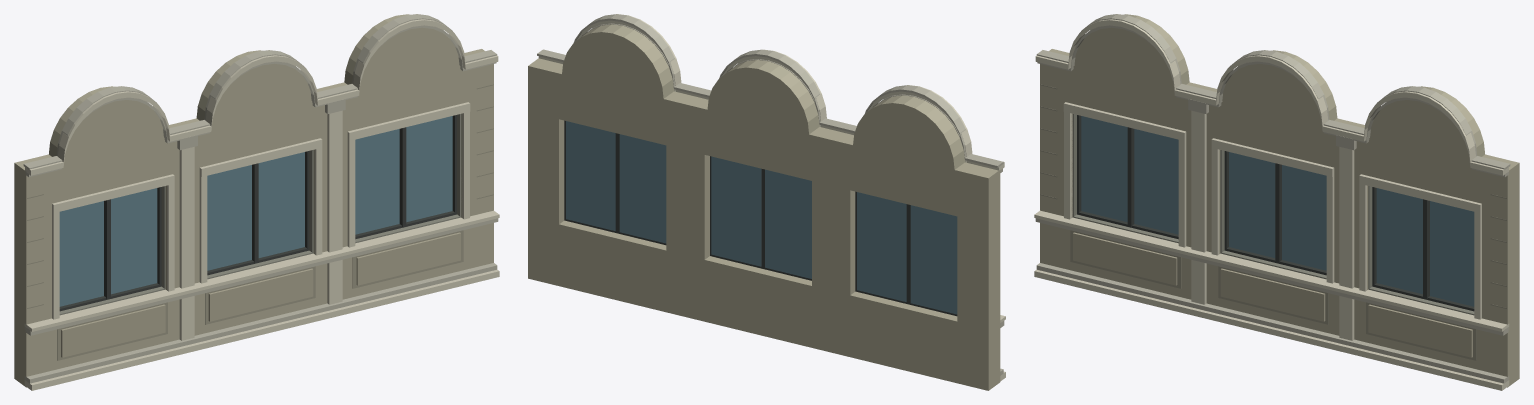
Rendered from changning-yang-garden-triple-parapet-lod.glb.
The picture shows the model from 3 angles, left to right: view 1: azimuth 30°, elevation 25°; view 2: azimuth 150°, elevation 25°; view 3: azimuth 330°, elevation 25°; orthographic projection.
Visible parts, largest first — view 1: 杨氏花园南立面三弧山花与双扇窗; view 2: 杨氏花园南立面三弧山花与双扇窗; view 3: 杨氏花园南立面三弧山花与双扇窗.
Boxes of the visible parts, left/top/right/bottom form: 杨氏花园南立面三弧山花与双扇窗: left=14, top=14, right=499, bottom=390; 杨氏花园南立面三弧山花与双扇窗: left=528, top=14, right=1005, bottom=390; 杨氏花园南立面三弧山花与双扇窗: left=1034, top=14, right=1519, bottom=390.
Size of the model in its own units: 6.74 by 3.82 by 0.441.
